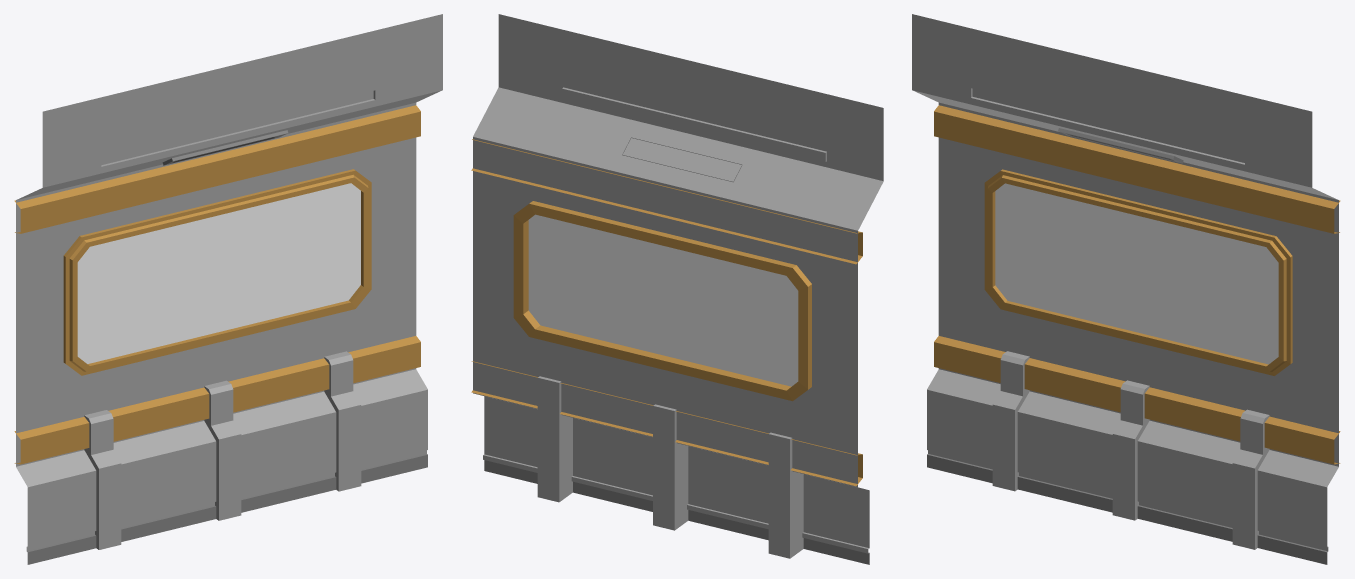
File: window_wall_sideb.007_lev3.glb
The picture shows the model from 3 angles, left to right: view 1: azimuth 30°, elevation 25°; view 2: azimuth 150°, elevation 25°; view 3: azimuth 330°, elevation 25°; orthographic projection. The views are drawn at different scales.
Visible parts, largest first — view 1: window_wall_sideb.007_lev3; view 2: window_wall_sideb.007_lev3; view 3: window_wall_sideb.007_lev3.
Boxes of the visible parts, x1,y1,x2,y2 form: window_wall_sideb.007_lev3: (14, 14, 442, 564); window_wall_sideb.007_lev3: (471, 14, 883, 564); window_wall_sideb.007_lev3: (912, 14, 1340, 564).
Size of the model in its own units: 4 by 4.43 by 0.5355.
